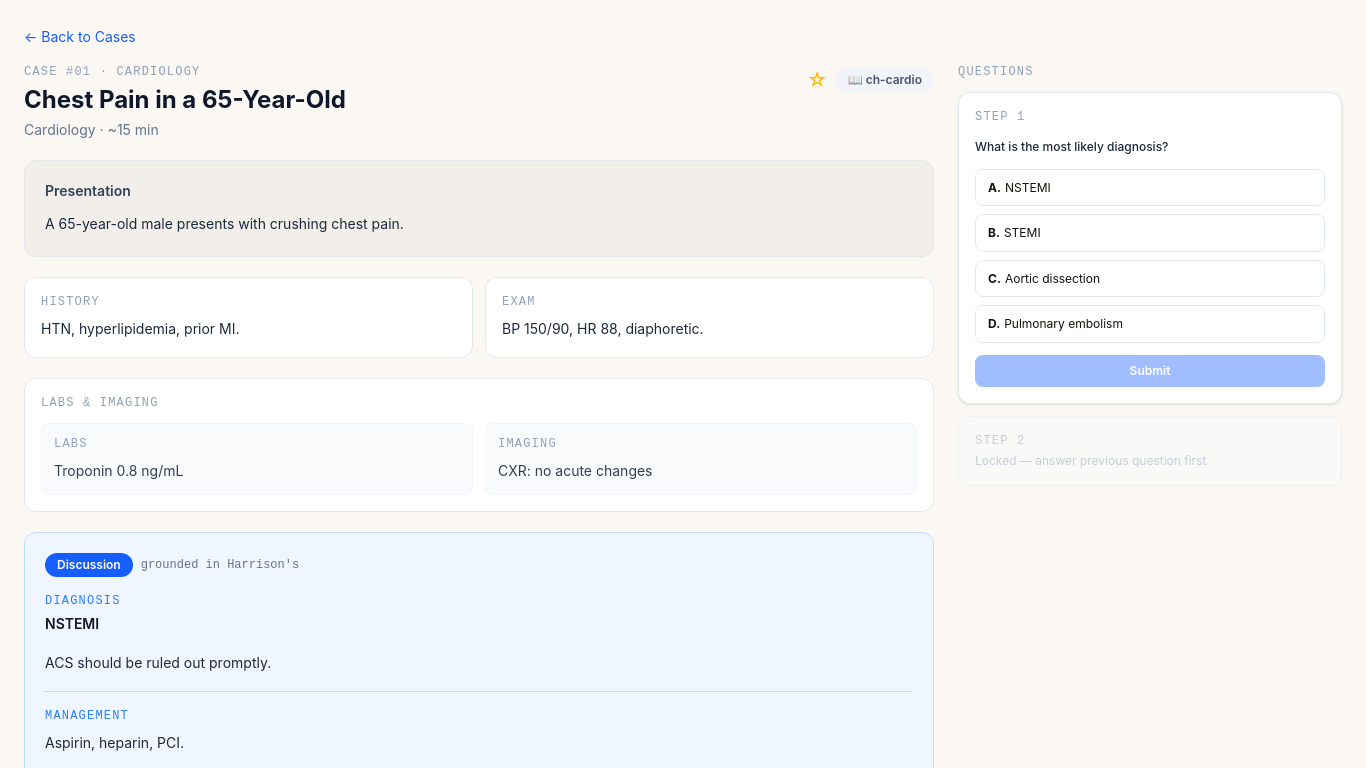
Test: CaseDetailPage › clicking option enables Submit and submitting shows Correct feedback
Click the button "A.NSTEMI": (1028, 187) [975, 168, 1325, 206]
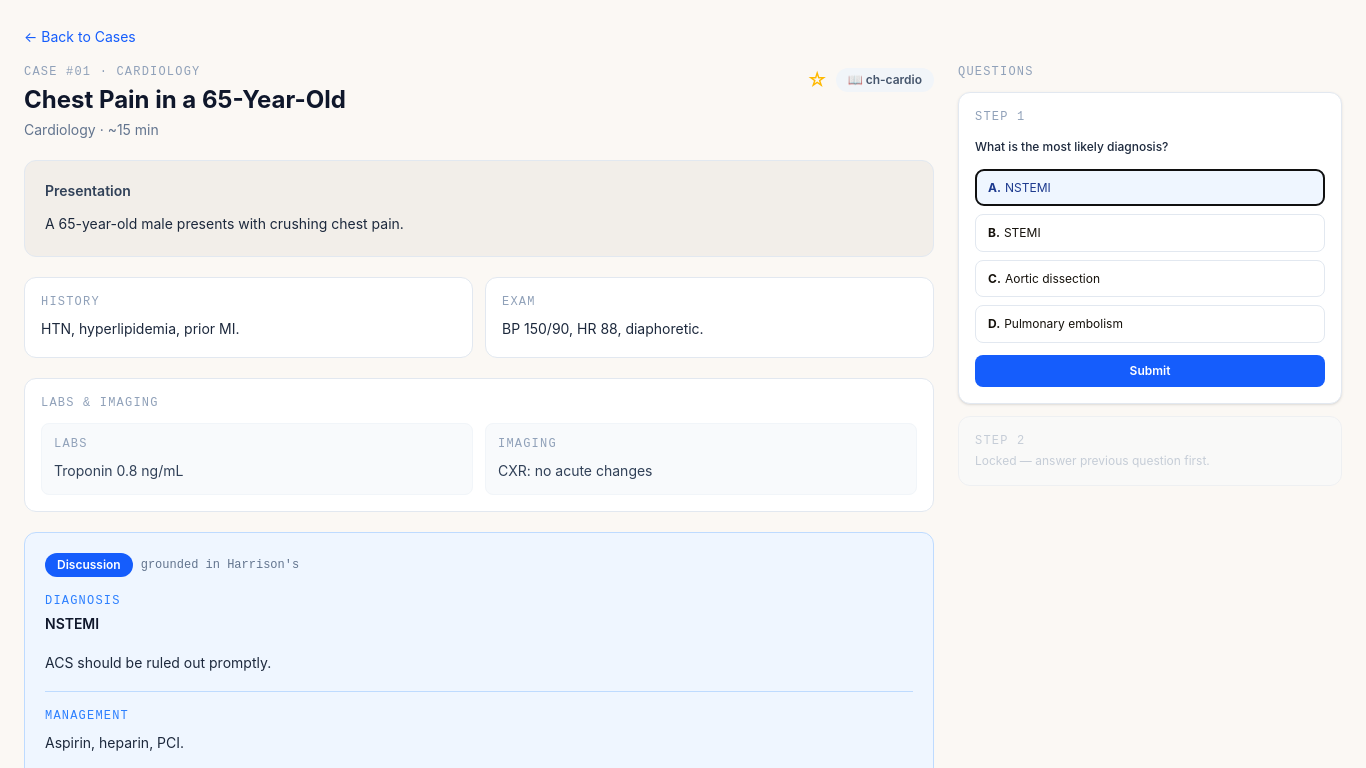
Now the button "Submit" is enabled
Click the button "Submit": (1150, 370) [975, 354, 1325, 386]
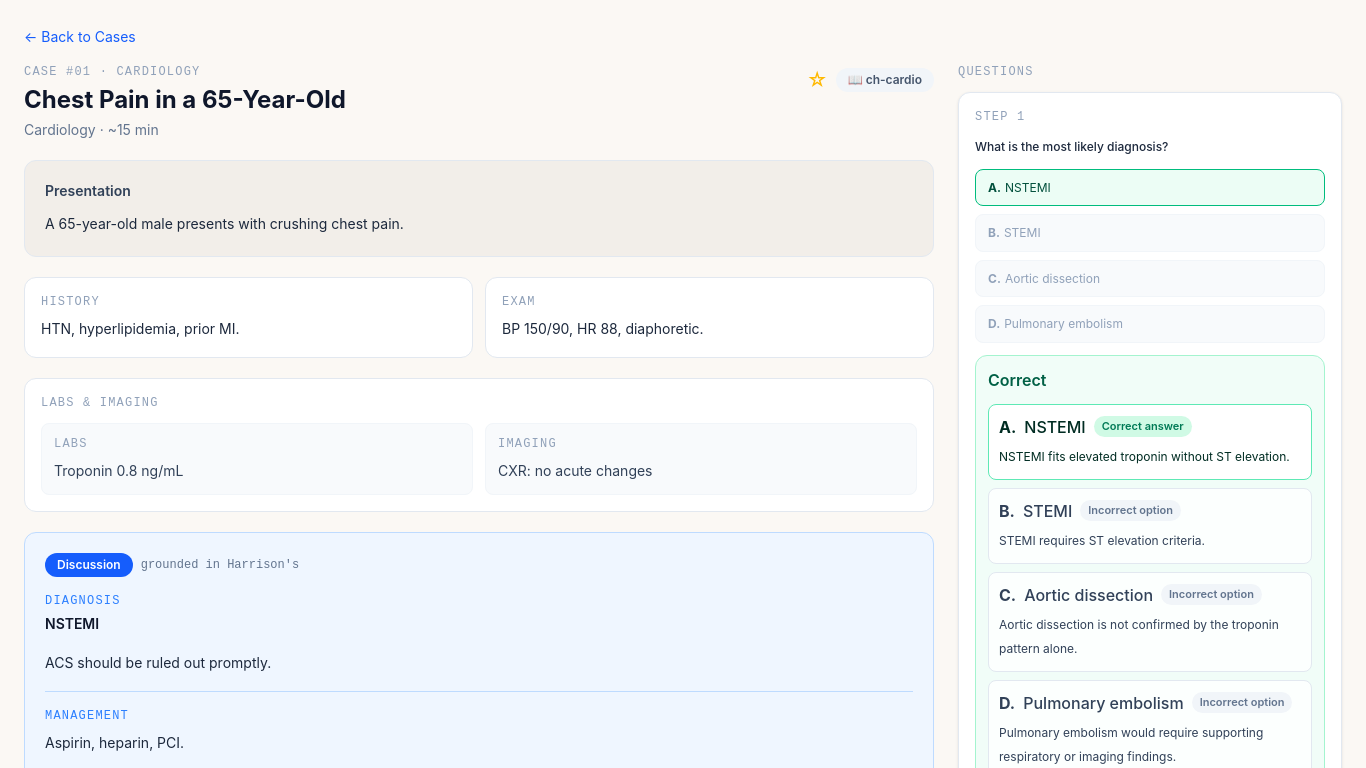
Now the text "Correct" is shown, box [988, 370, 1046, 390]
Now the text "NSTEMI fits elevated troponin without ST elevation." is shown, box [999, 444, 1301, 468]
Now the text "STEMI requires ST elevation criteria." is shown, box [999, 532, 1205, 548]
